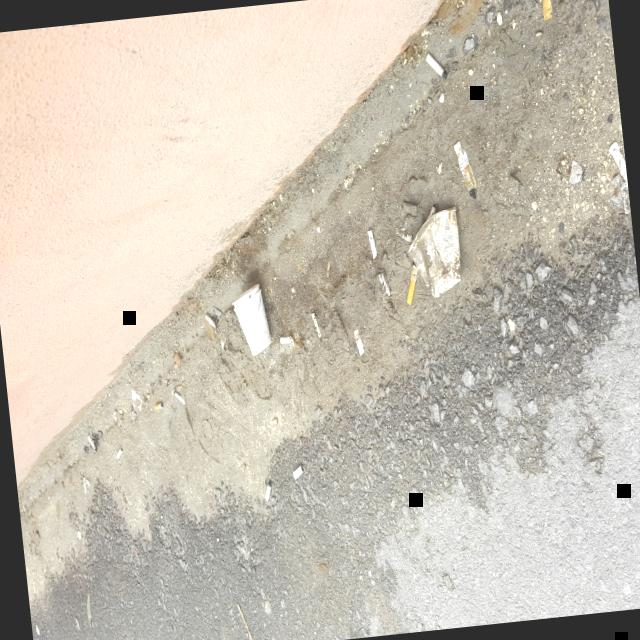Cigarette: (452, 140, 475, 200), (607, 142, 627, 182), (405, 259, 416, 305), (425, 53, 446, 77), (366, 229, 376, 259), (204, 312, 216, 330), (86, 434, 96, 451), (173, 390, 184, 405), (292, 464, 302, 479), (264, 481, 270, 501), (279, 336, 292, 343), (153, 401, 162, 410), (115, 447, 121, 459)
Paper cup: (407, 206, 459, 299), (233, 289, 270, 355), (231, 283, 259, 307)
Unlabeled litter: (619, 181, 630, 214), (568, 161, 582, 184), (310, 312, 321, 340), (394, 226, 411, 242), (353, 329, 363, 356), (377, 274, 389, 296), (82, 477, 86, 492)
Wrapping paper: (541, 0, 551, 21)
